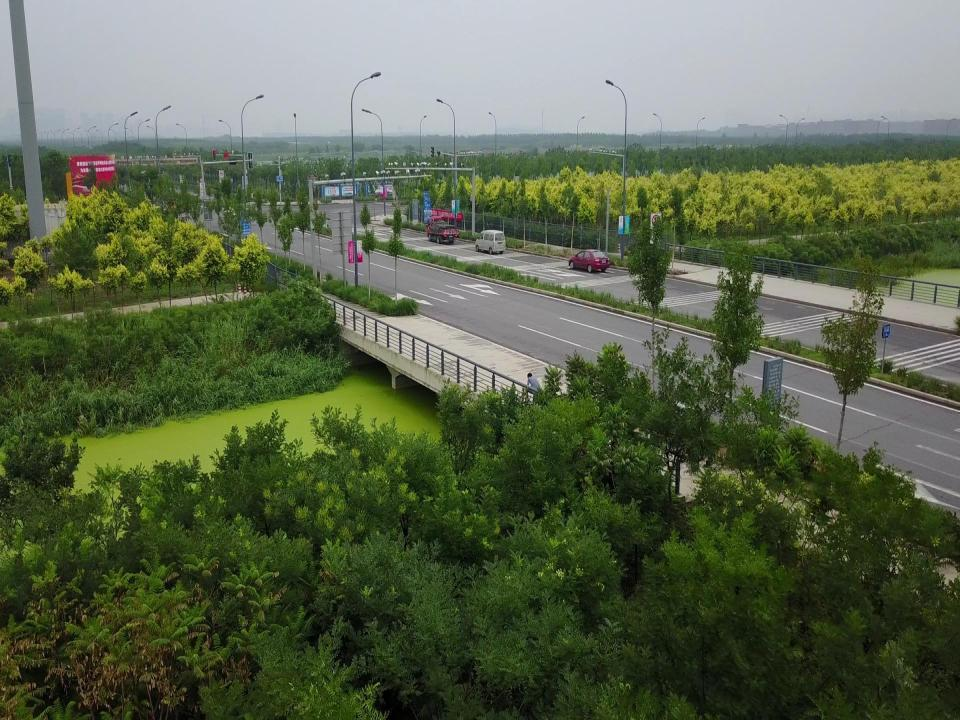car: (568, 248, 610, 271)
truck: (425, 216, 458, 244)
van: (475, 229, 507, 253)
